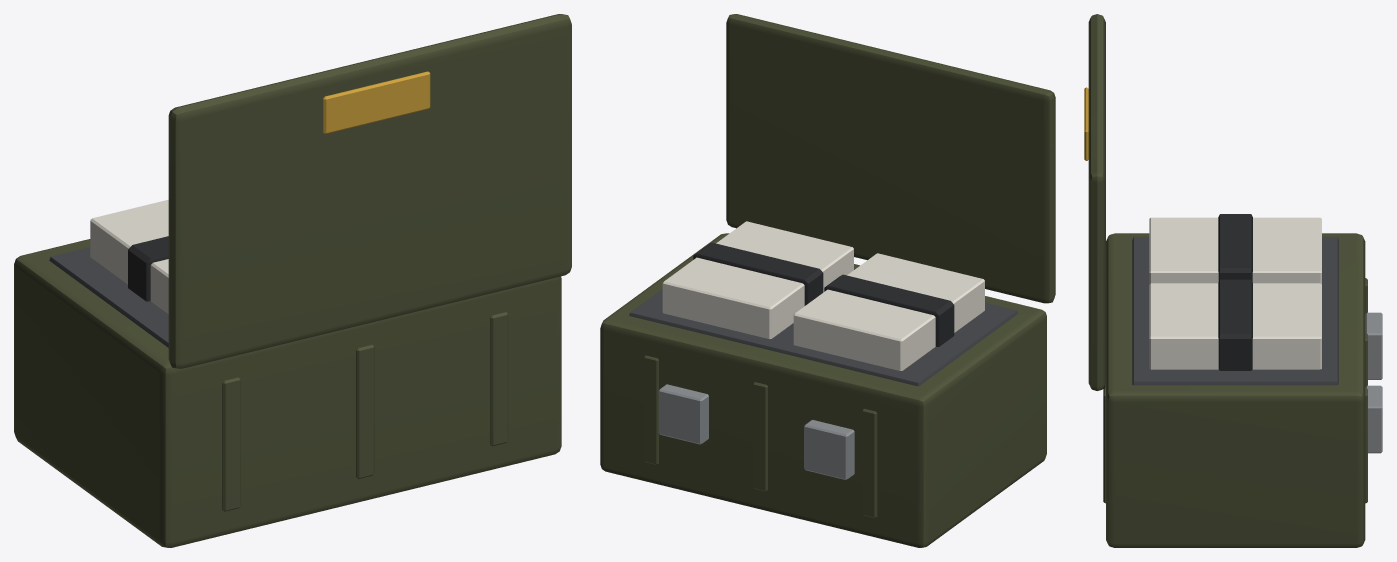
Rendered from prop_c4_box.glb.
3 renders of one model, left to right at view 1: azimuth 30°, elevation 25°; view 2: azimuth 150°, elevation 25°; view 3: azimuth 270°, elevation 25°, orthographic. The views are drawn at different scales.
Visible parts, largest first — view 1: Body; view 2: Body; view 3: Body.
Boxes of the visible parts, box(x1,y1,x2,y2) form: Body: box(14, 14, 571, 547); Body: box(600, 14, 1055, 547); Body: box(1084, 14, 1382, 547).
Bounding box in the file's own units: 0.45 × 0.48 × 0.345.
